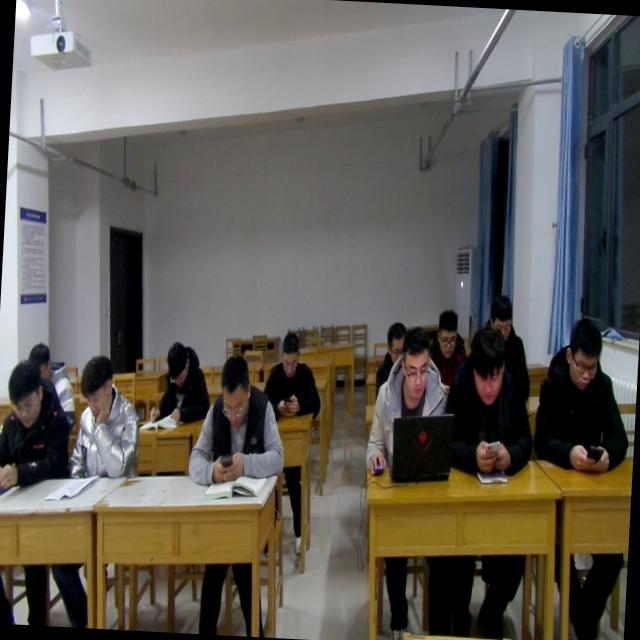down: (562, 316, 608, 389), (466, 324, 506, 406), (213, 350, 254, 429), (74, 356, 117, 426), (3, 358, 44, 428), (398, 326, 434, 404), (161, 338, 191, 389), (433, 304, 462, 356), (275, 329, 302, 379), (488, 294, 514, 339), (383, 316, 407, 359), (27, 336, 52, 376)
sit: (533, 316, 637, 477), (441, 324, 540, 480), (186, 353, 290, 491), (364, 324, 450, 482), (67, 353, 145, 487), (0, 359, 76, 495), (471, 294, 536, 396), (260, 328, 326, 421), (148, 336, 213, 428), (23, 342, 78, 428), (428, 306, 471, 403), (373, 318, 406, 404)
